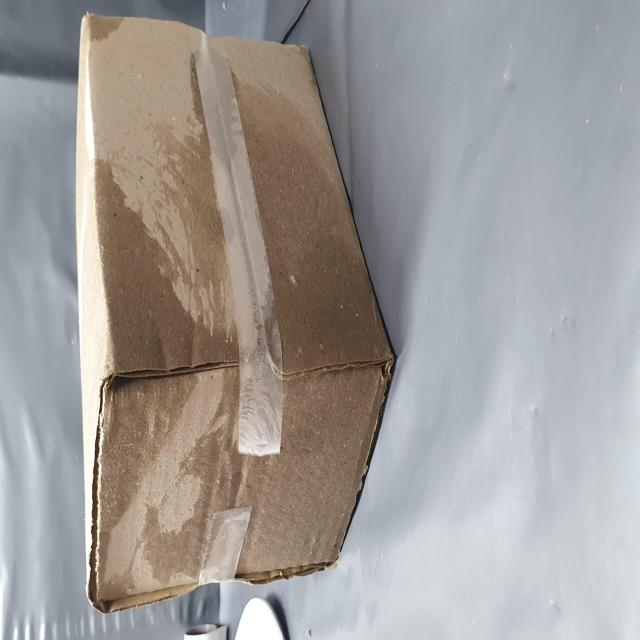wet: (18, 144, 322, 640), (332, 155, 358, 218)
